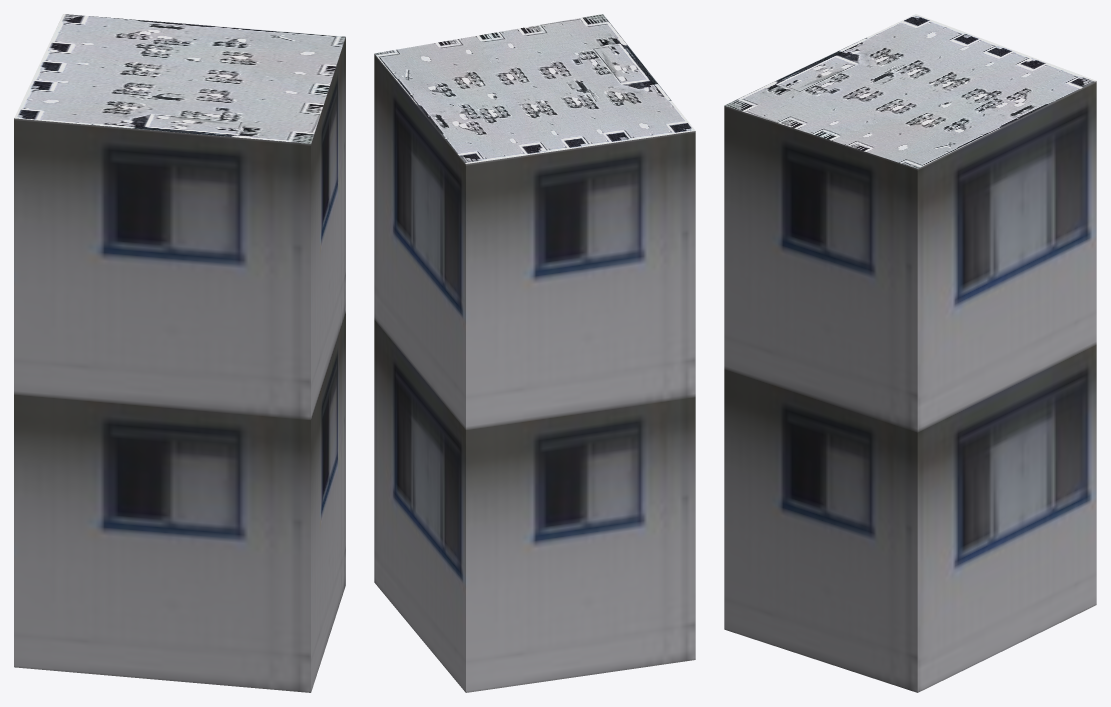
Rendered from ResTex__1395.fbx.
3 views of the same model, side by side, from view 1: azimuth 30°, elevation 25°; view 2: azimuth 150°, elevation 25°; view 3: azimuth 270°, elevation 25° (orthographic). The views are drawn at different scales.
Parts seen in each view (by area): view 1: CityEngineMaterial_9_m, CityEngineMaterial_4_m; view 2: CityEngineMaterial_9_m, CityEngineMaterial_4_m; view 3: CityEngineMaterial_9_m, CityEngineMaterial_4_m.
Boxes of the visible parts, x1,y1,x2,y2 form: CityEngineMaterial_9_m: (14,37,345,692); CityEngineMaterial_4_m: (14,14,345,143); CityEngineMaterial_9_m: (374,54,695,692); CityEngineMaterial_4_m: (374,14,695,163); CityEngineMaterial_9_m: (724,81,1096,692); CityEngineMaterial_4_m: (724,14,1096,168).
Bounding box in the file's own units: 3.8 × 6 × 3.87.
Materials: 2 (2 with a texture image).
